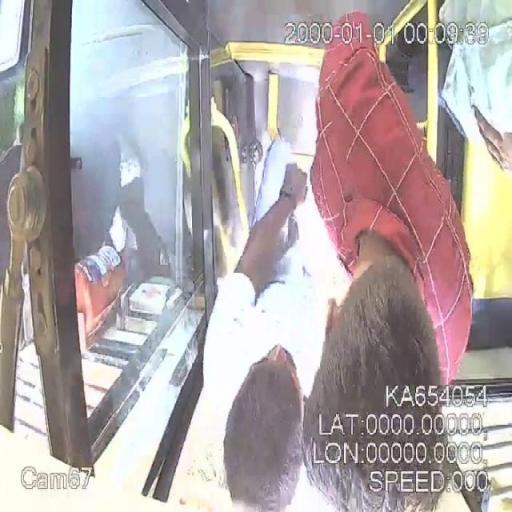persona: (294, 10, 475, 512), (192, 136, 324, 511)
